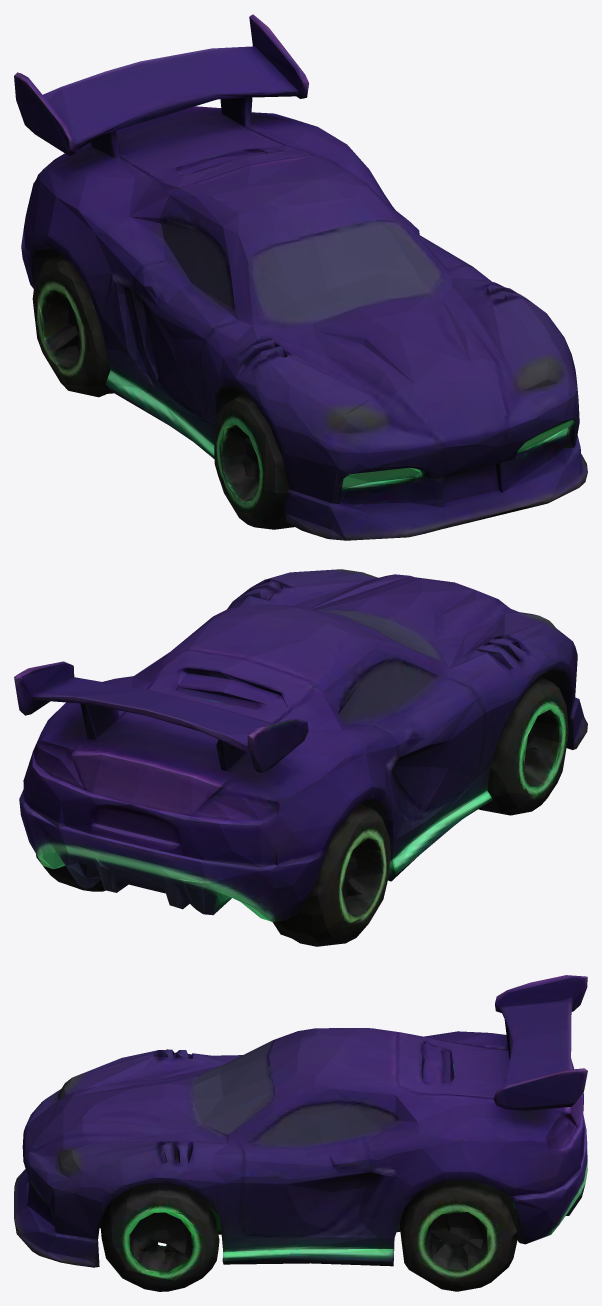
The model's file is car-glitch.glb.
3 renders of one model, top to bottom at view 1: azimuth 30°, elevation 25°; view 2: azimuth 150°, elevation 25°; view 3: azimuth 270°, elevation 25°, orthographic. The views are drawn at different scales.
Parts seen in each view (by area): view 1: geometry_0; view 2: geometry_0; view 3: geometry_0.
Boxes of the visible parts, left/top/right/bottom form: geometry_0: left=14, top=14, right=587, bottom=540; geometry_0: left=14, top=569, right=587, bottom=946; geometry_0: left=14, top=975, right=587, bottom=1291.
Bounding box in the file's own units: 0.5058 × 0.42 × 0.9985.
Materials: 1 (1 with a texture image).
